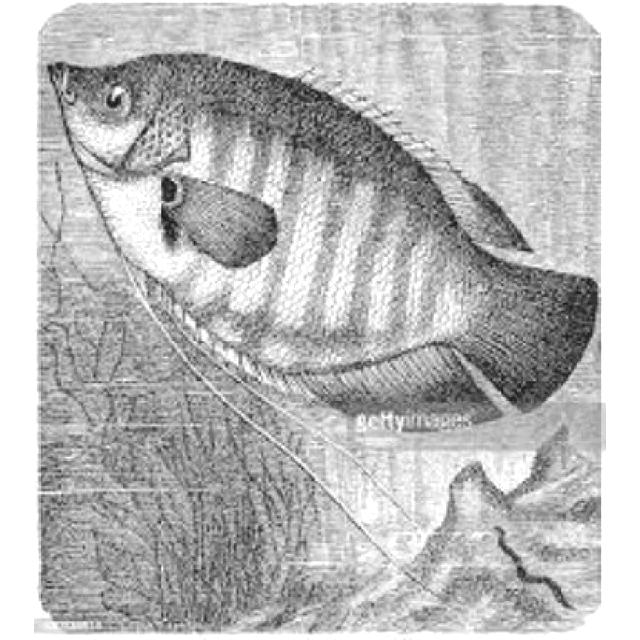gurame: (35, 46, 592, 440)
